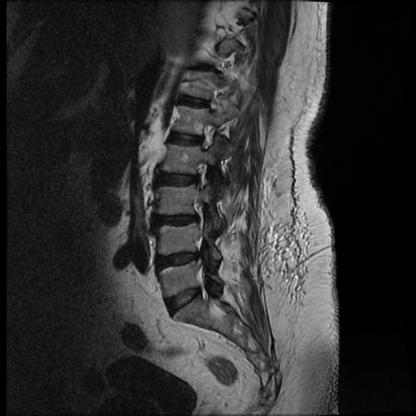Degenerative Disc Diseaserotation: (155, 252, 202, 268)
Disc Bulgerotation: (164, 285, 206, 317), (154, 211, 199, 231), (155, 170, 202, 189), (154, 252, 201, 269), (168, 131, 204, 149)
